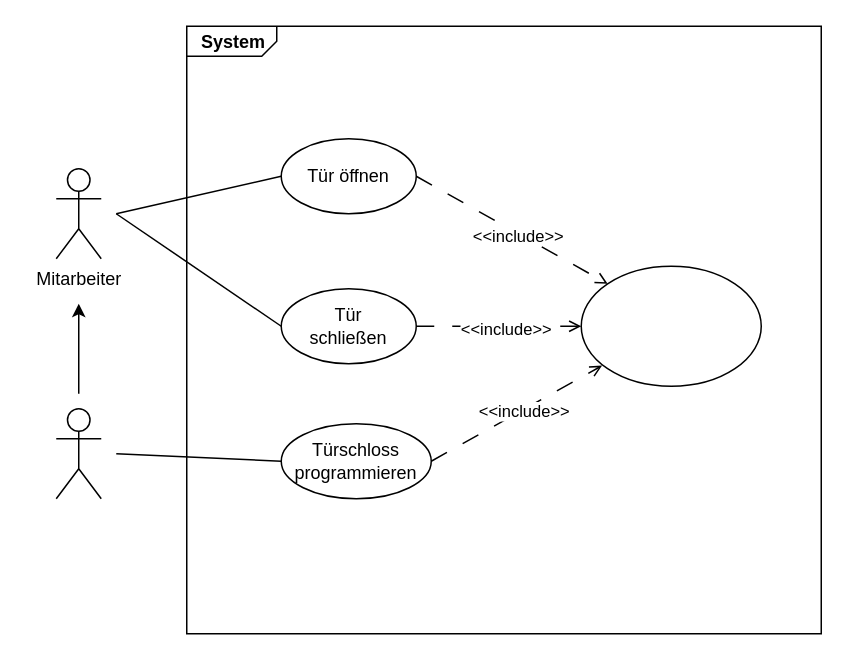
The diagram is 848 pixels wide and 660 high, and some of its shapes have lost their labels. The centre of each missing label's shape, as x and y in pixels:
Administrator: (x=78, y=453)
Berechtigung überprüfen: (x=670, y=325)
